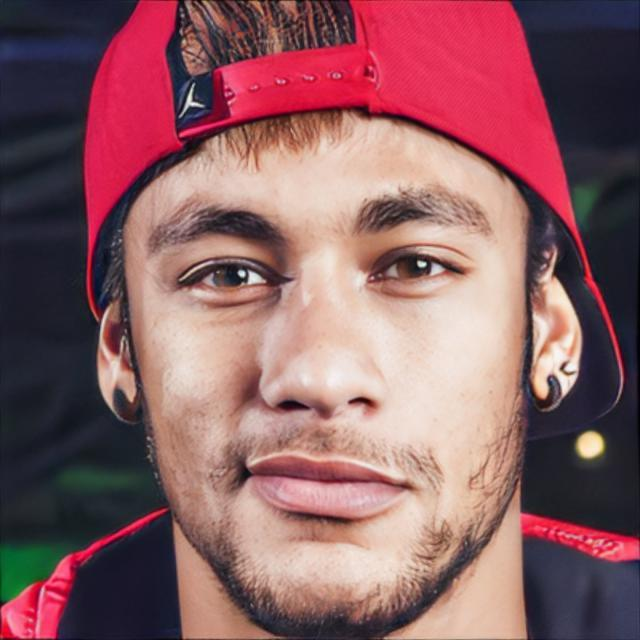content: (122, 107, 530, 640)
